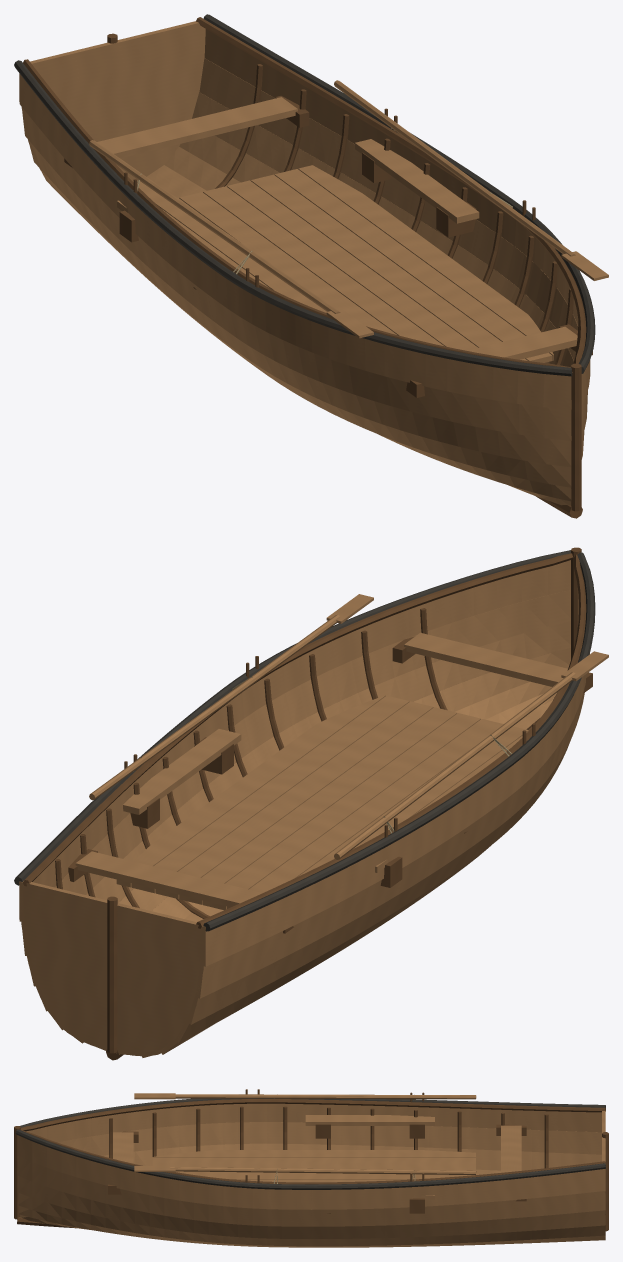
The model's file is ship.glb.
The picture shows the model from 3 angles, top to bottom: view 1: azimuth 30°, elevation 25°; view 2: azimuth 150°, elevation 25°; view 3: azimuth 270°, elevation 25°; orthographic projection. The views are drawn at different scales.
Visible parts, largest first — view 1: strake_starboard_07, transom, strake_starboard_06, strake_starboard_05, strake_port_06, strake_port_07, gunwale_1_001, strake_port_05, sole_board_07, sole_board_06, sole_board_05, sole_board_08 (+19 smaller); view 2: transom, strake_port_07, strake_port_06, strake_starboard_07, strake_starboard_06, strake_port_05, strake_starboard_05, sole_board_06, sole_board_07, sole_board_05, sole_board_04, sole_board_03 (+16 smaller); view 3: strake_port_07, strake_port_06, strake_starboard_06, strake_starboard_07, strake_port_05, strake_port_04, gunwale_1, strake_starboard_05, inwale_1_001, sole_board_01, sole_board_00, strake_port_03 (+18 smaller).
Boxes of the visible parts, <box> form: strake_starboard_07: <box>19,73,571,409</box>; transom: <box>21,21,205,181</box>; strake_starboard_06: <box>22,107,571,440</box>; strake_starboard_05: <box>28,140,571,467</box>; strake_port_06: <box>199,58,587,435</box>; strake_port_07: <box>204,29,590,405</box>; gunwale_1_001: <box>14,60,572,376</box>; strake_port_05: <box>192,92,584,459</box>; sole_board_07: <box>274,169,552,362</box>; sole_board_06: <box>250,174,527,360</box>; sole_board_05: <box>227,180,477,350</box>; sole_board_08: <box>298,165,553,360</box>; transom: <box>19,881,205,1056</box>; strake_port_07: <box>19,560,570,921</box>; strake_port_06: <box>21,590,570,955</box>; strake_starboard_07: <box>201,653,589,966</box>; strake_starboard_06: <box>196,594,584,998</box>; strake_port_05: <box>26,621,570,986</box>; strake_starboard_05: <box>187,623,578,1024</box>; sole_board_06: <box>155,701,433,898</box>; sole_board_07: <box>131,695,409,893</box>; sole_board_05: <box>179,707,457,904</box>; sole_board_04: <box>203,713,480,910</box>; sole_board_03: <box>227,719,503,908</box>; strake_port_07: <box>17,1135,605,1209</box>; strake_port_06: <box>17,1156,605,1226</box>; strake_starboard_06: <box>58,1122,601,1155</box>; strake_starboard_07: <box>26,1103,601,1142</box>; strake_port_05: <box>18,1176,605,1238</box>; strake_port_04: <box>18,1193,605,1246</box>; gunwale_1: <box>15,1129,605,1189</box>; strake_starboard_05: <box>101,1143,601,1170</box>; inwale_1_001: <box>21,1099,605,1131</box>; sole_board_01: <box>152,1157,475,1164</box>; sole_board_00: <box>153,1150,475,1157</box>; strake_port_03: <box>19,1206,605,1247</box>.
Size of the model in its own units: 1.97 by 1.1 by 5.46.
Materials: 4 (4 with a texture image).
